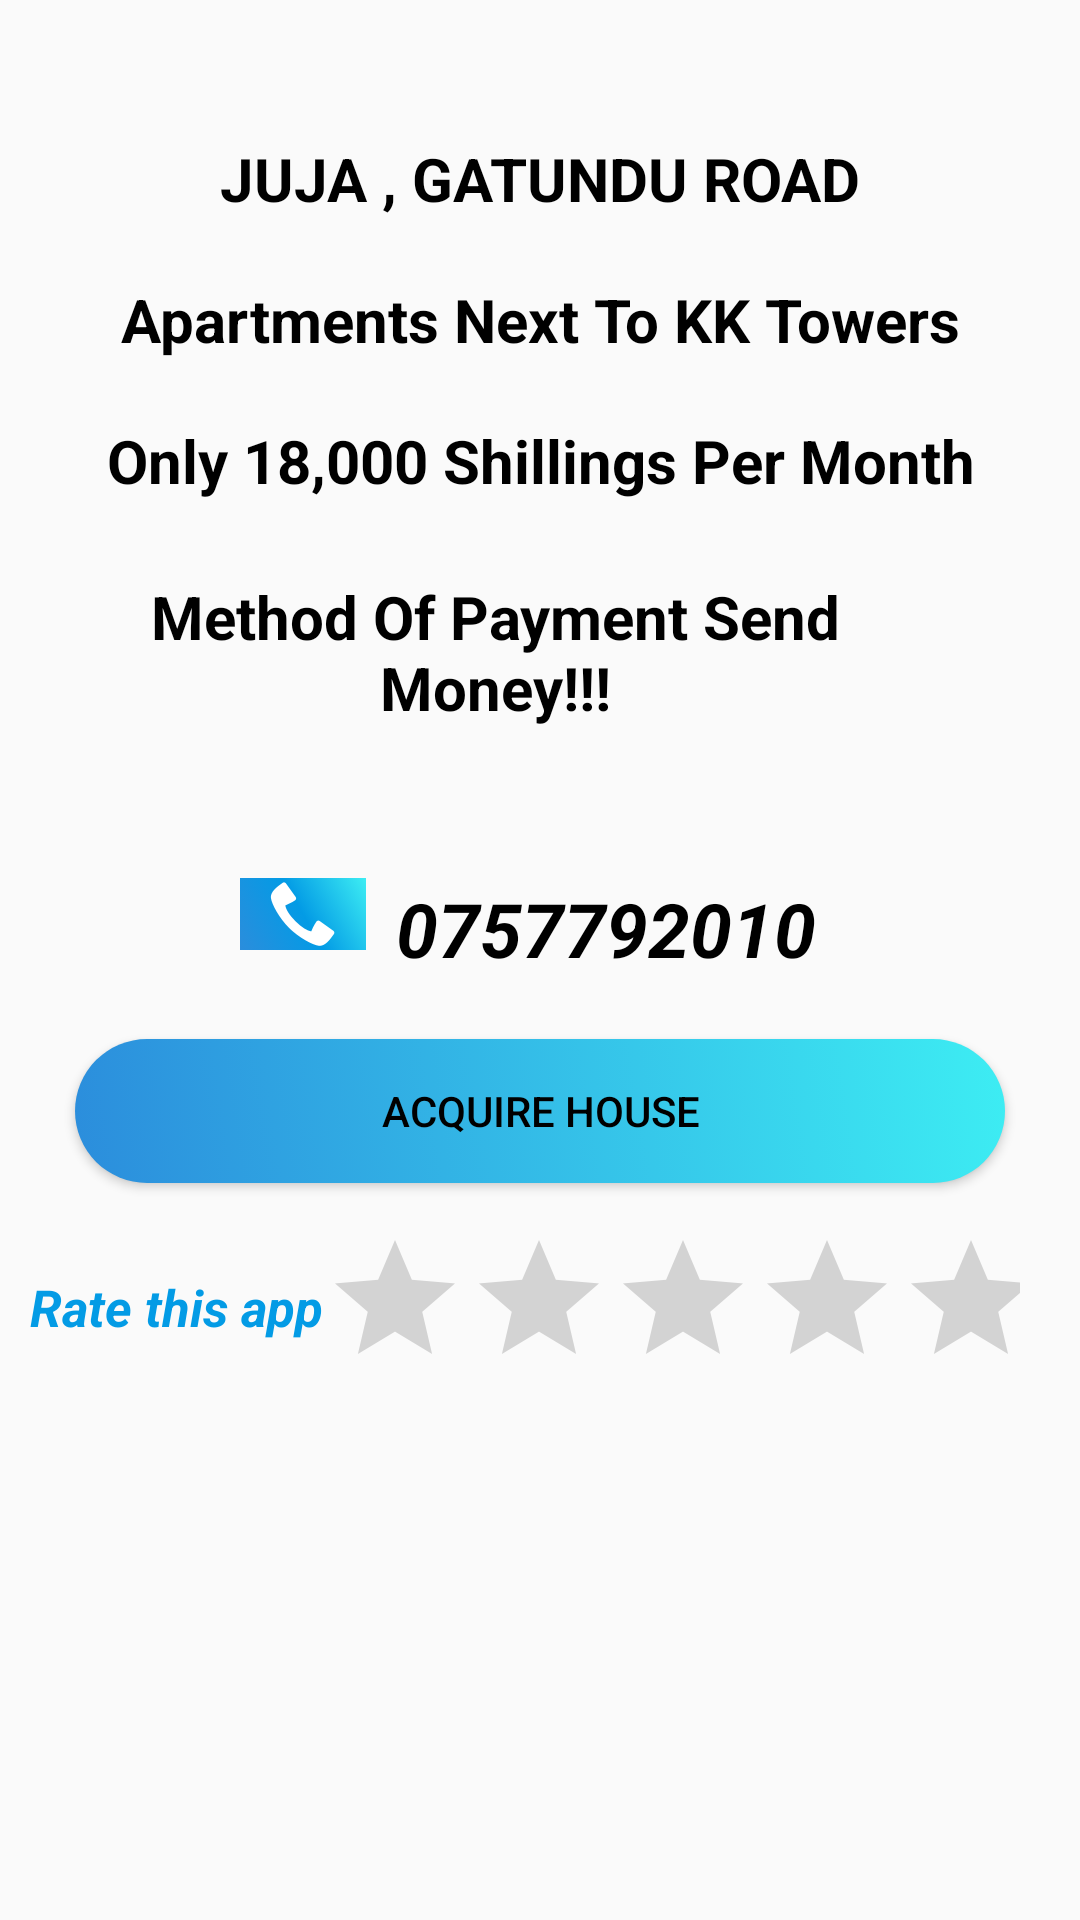

Icons on this 1080×1920 Android screen, each with the point to tap as (x=x, y=y):
phone call: (x=303, y=914)
